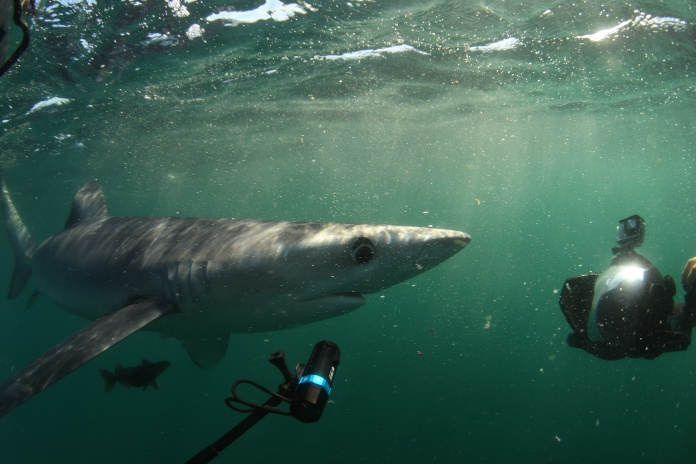Mako: (1, 167, 481, 414)
